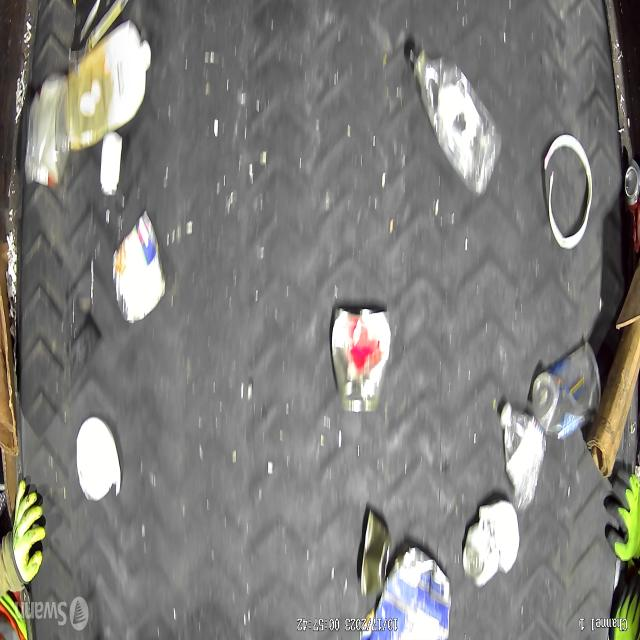can: (330, 308, 390, 414), (359, 512, 391, 602), (624, 158, 640, 252)
plastic_bottle: (407, 44, 499, 196), (497, 402, 545, 514)
